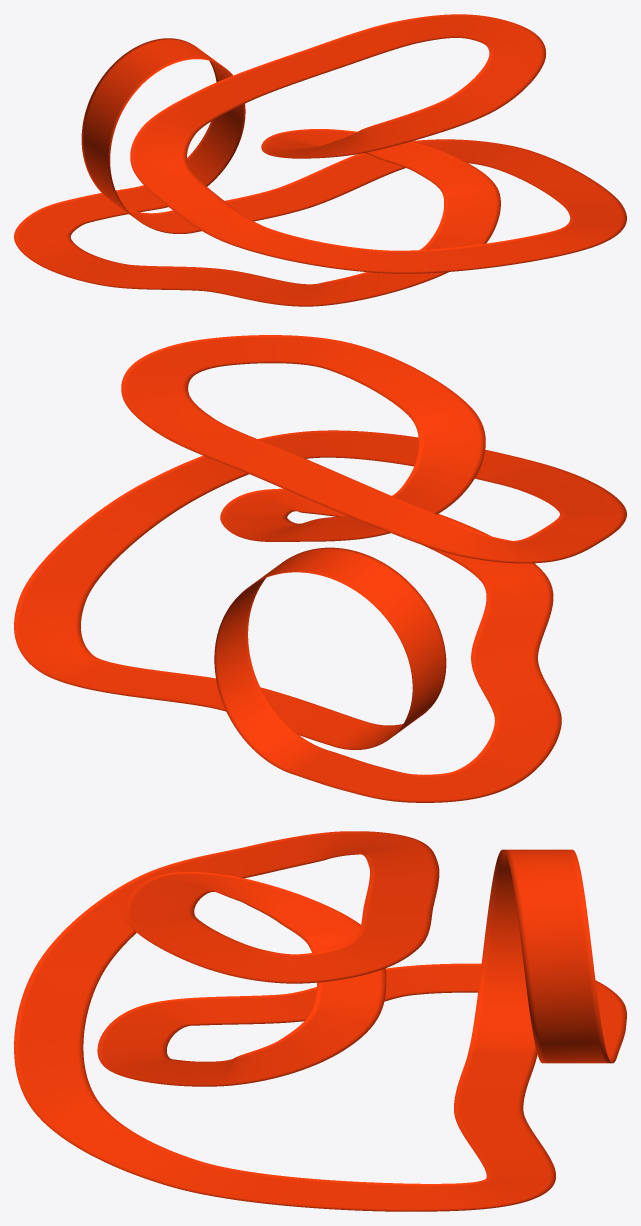
Rendered from racetrack-dcl-2.glb.
3 renders of one model, top to bottom at view 1: azimuth 30°, elevation 25°; view 2: azimuth 150°, elevation 25°; view 3: azimuth 270°, elevation 25°, orthographic. The views are drawn at different scales.
Visible parts, largest first — view 1: TRACK_TRIM; view 2: TRACK_TRIM; view 3: TRACK_TRIM.
Part boxes in pixels (<box>): TRACK_TRIM: <box>14,14,626,306</box>; TRACK_TRIM: <box>14,335,626,802</box>; TRACK_TRIM: <box>14,831,626,1211</box>.
Bounding box in the file's own units: 28.09 × 10.73 × 25.92.
